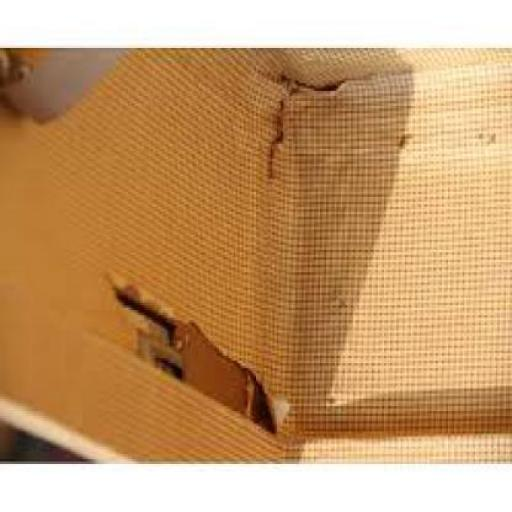cardboard: (1, 52, 511, 470)
